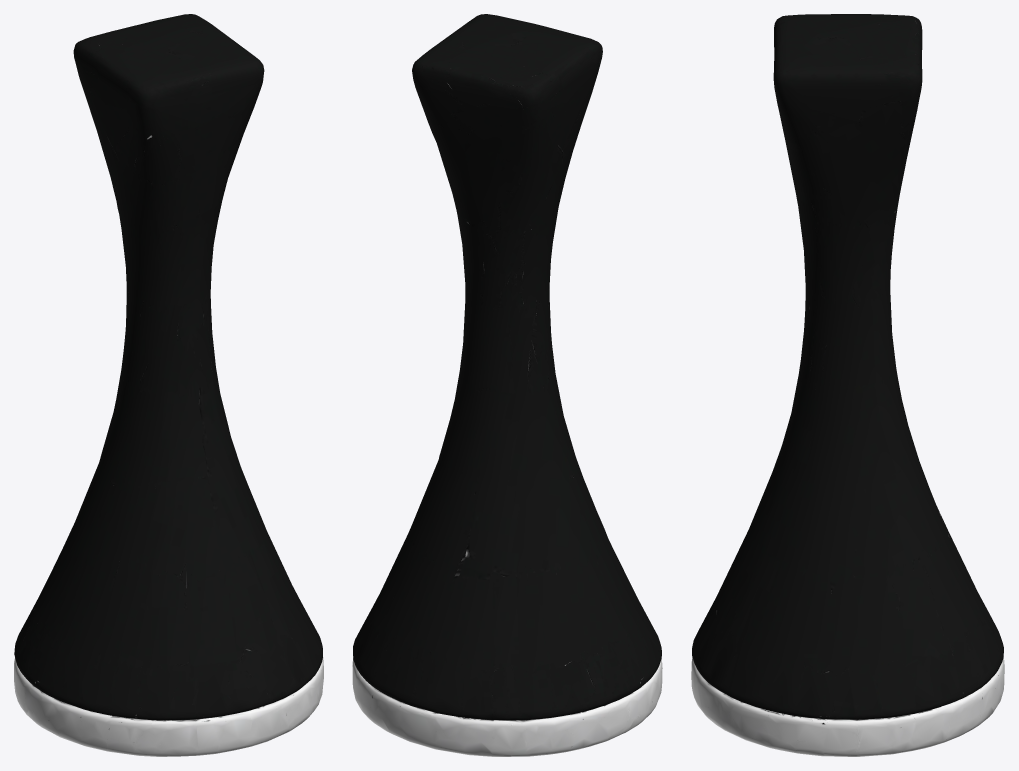
File: queen-black.glb
3 views of the same model, side by side, from view 1: azimuth 30°, elevation 25°; view 2: azimuth 150°, elevation 25°; view 3: azimuth 270°, elevation 25° (orthographic).
Bounding box in the file's own units: 0.6272 × 1.45 × 0.6275.
Materials: 1 (1 with a texture image).
